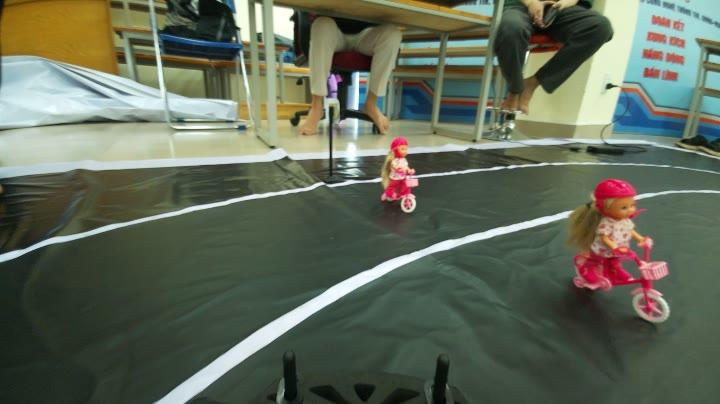pedestrian: (549, 168, 678, 324), (371, 132, 430, 212)
